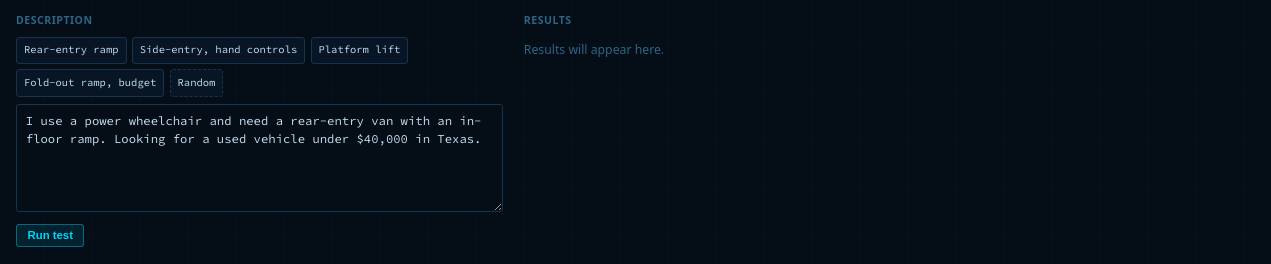
Test: IntakeTestPanel › should submit the trimmed description and render extracted filters plus the raw response
Replace the text in the text box named "Test description" with "  van in Texas  " at (259, 158), box top-left (16, 104), bottom-right (503, 212)
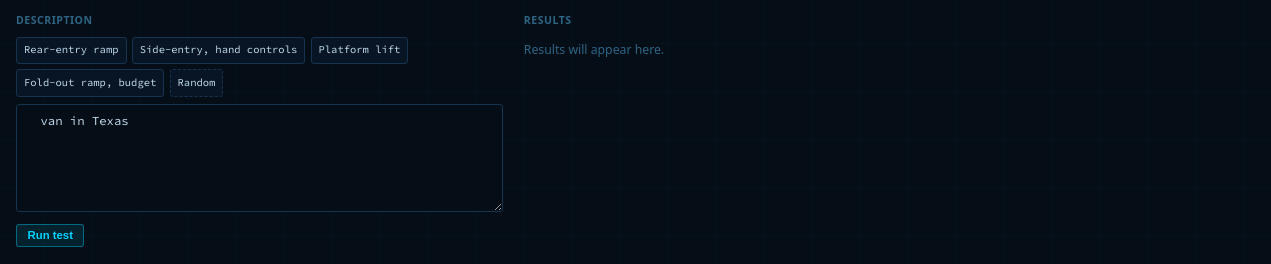
Click the button "Run test" at (50, 235), box top-left (16, 224), bottom-right (84, 247)
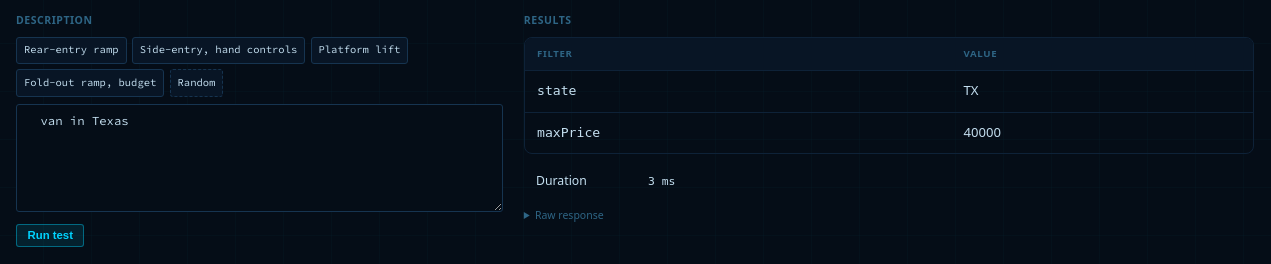
Expected: the text "maxPrice" is shown, top-left (537, 125), bottom-right (600, 140)
Expected: the text "40000" is shown, top-left (951, 112), bottom-right (1253, 153)
Expected: the text "TX" is shown, top-left (951, 70), bottom-right (1253, 112)
